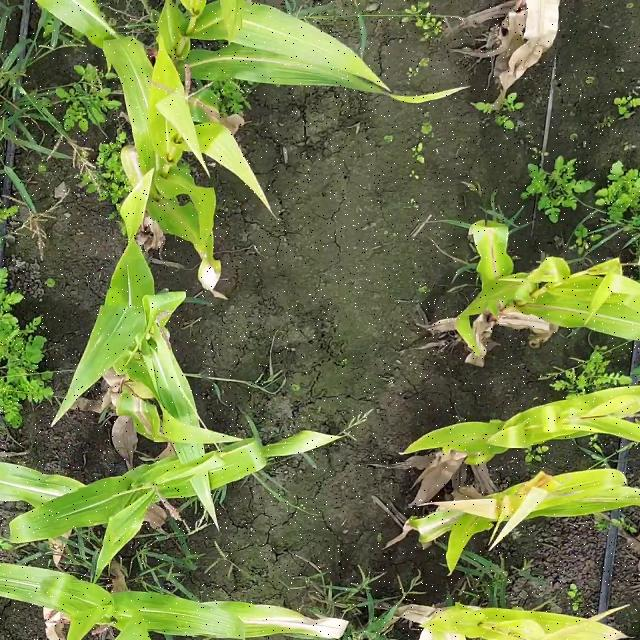northern-leaf-blight: (150, 202, 236, 303), (471, 463, 572, 542), (229, 599, 410, 640)
